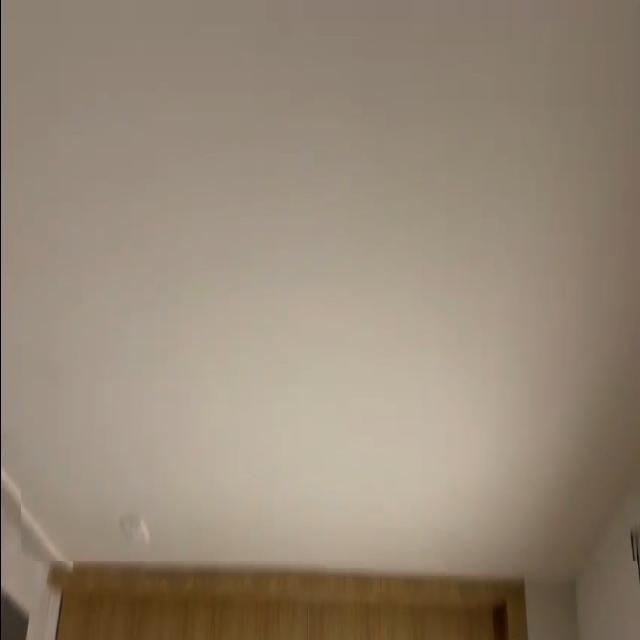wall: (20, 0, 640, 561)
